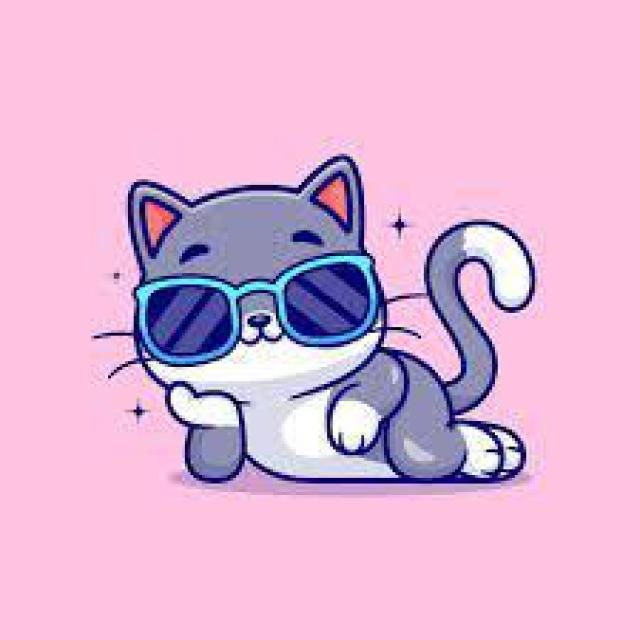cats: (100, 150, 534, 483)
